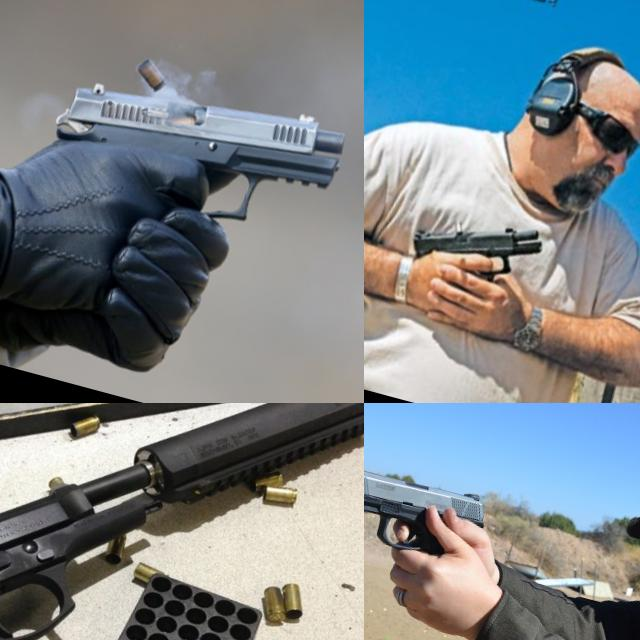handgun: (33, 42, 360, 260), (0, 403, 218, 640), (398, 196, 550, 316), (364, 452, 496, 584)
